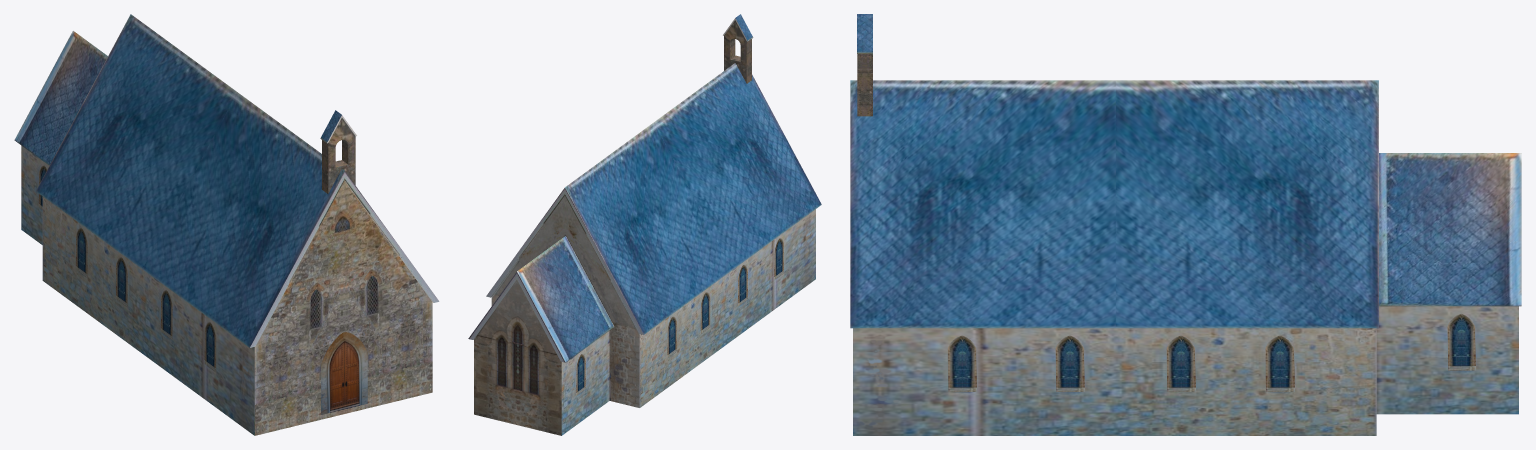
Rendered from church-small-19x8-cbj_LOD00.gltf.
The picture shows the model from 3 angles, left to right: view 1: azimuth 30°, elevation 25°; view 2: azimuth 150°, elevation 25°; view 3: azimuth 270°, elevation 25°; orthographic projection. The views are drawn at different scales.
Parts seen in each view (by area): view 1: Cube.001; view 2: Cube.001; view 3: Cube.001.
Boxes of the visible parts, box(x1,y1,x2,y2) form: Cube.001: box(14, 14, 439, 435); Cube.001: box(468, 14, 821, 435); Cube.001: box(850, 14, 1521, 435).
Bounding box in the file's own units: 7.6 × 11.41 × 18.84.
